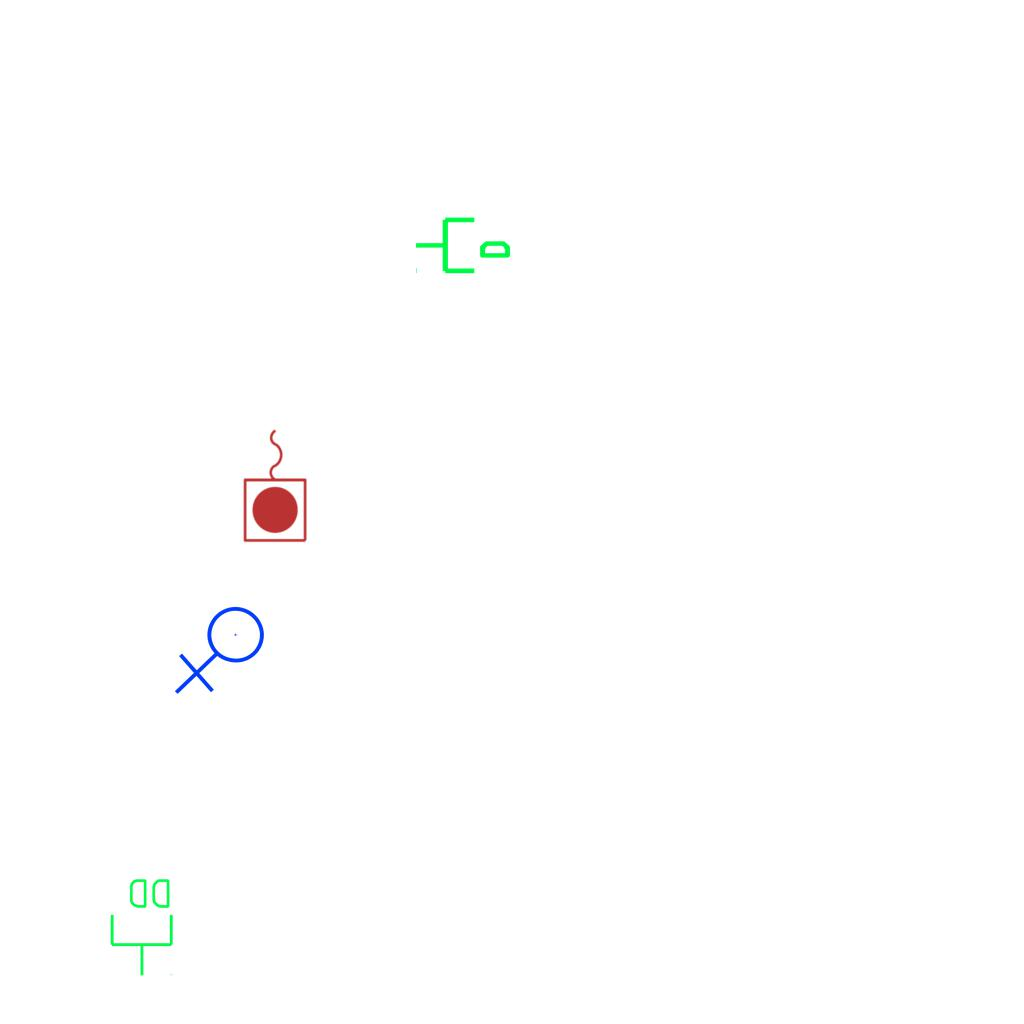Datenanschluss_einfach: (413, 209, 513, 278)
Datenanschluss_zweifach: (108, 875, 177, 978)
Elektroanschluss_allgemein_230V_Geraeteanschlussdose_230V: (174, 605, 273, 699)
Zugtaster: (240, 424, 312, 546)
